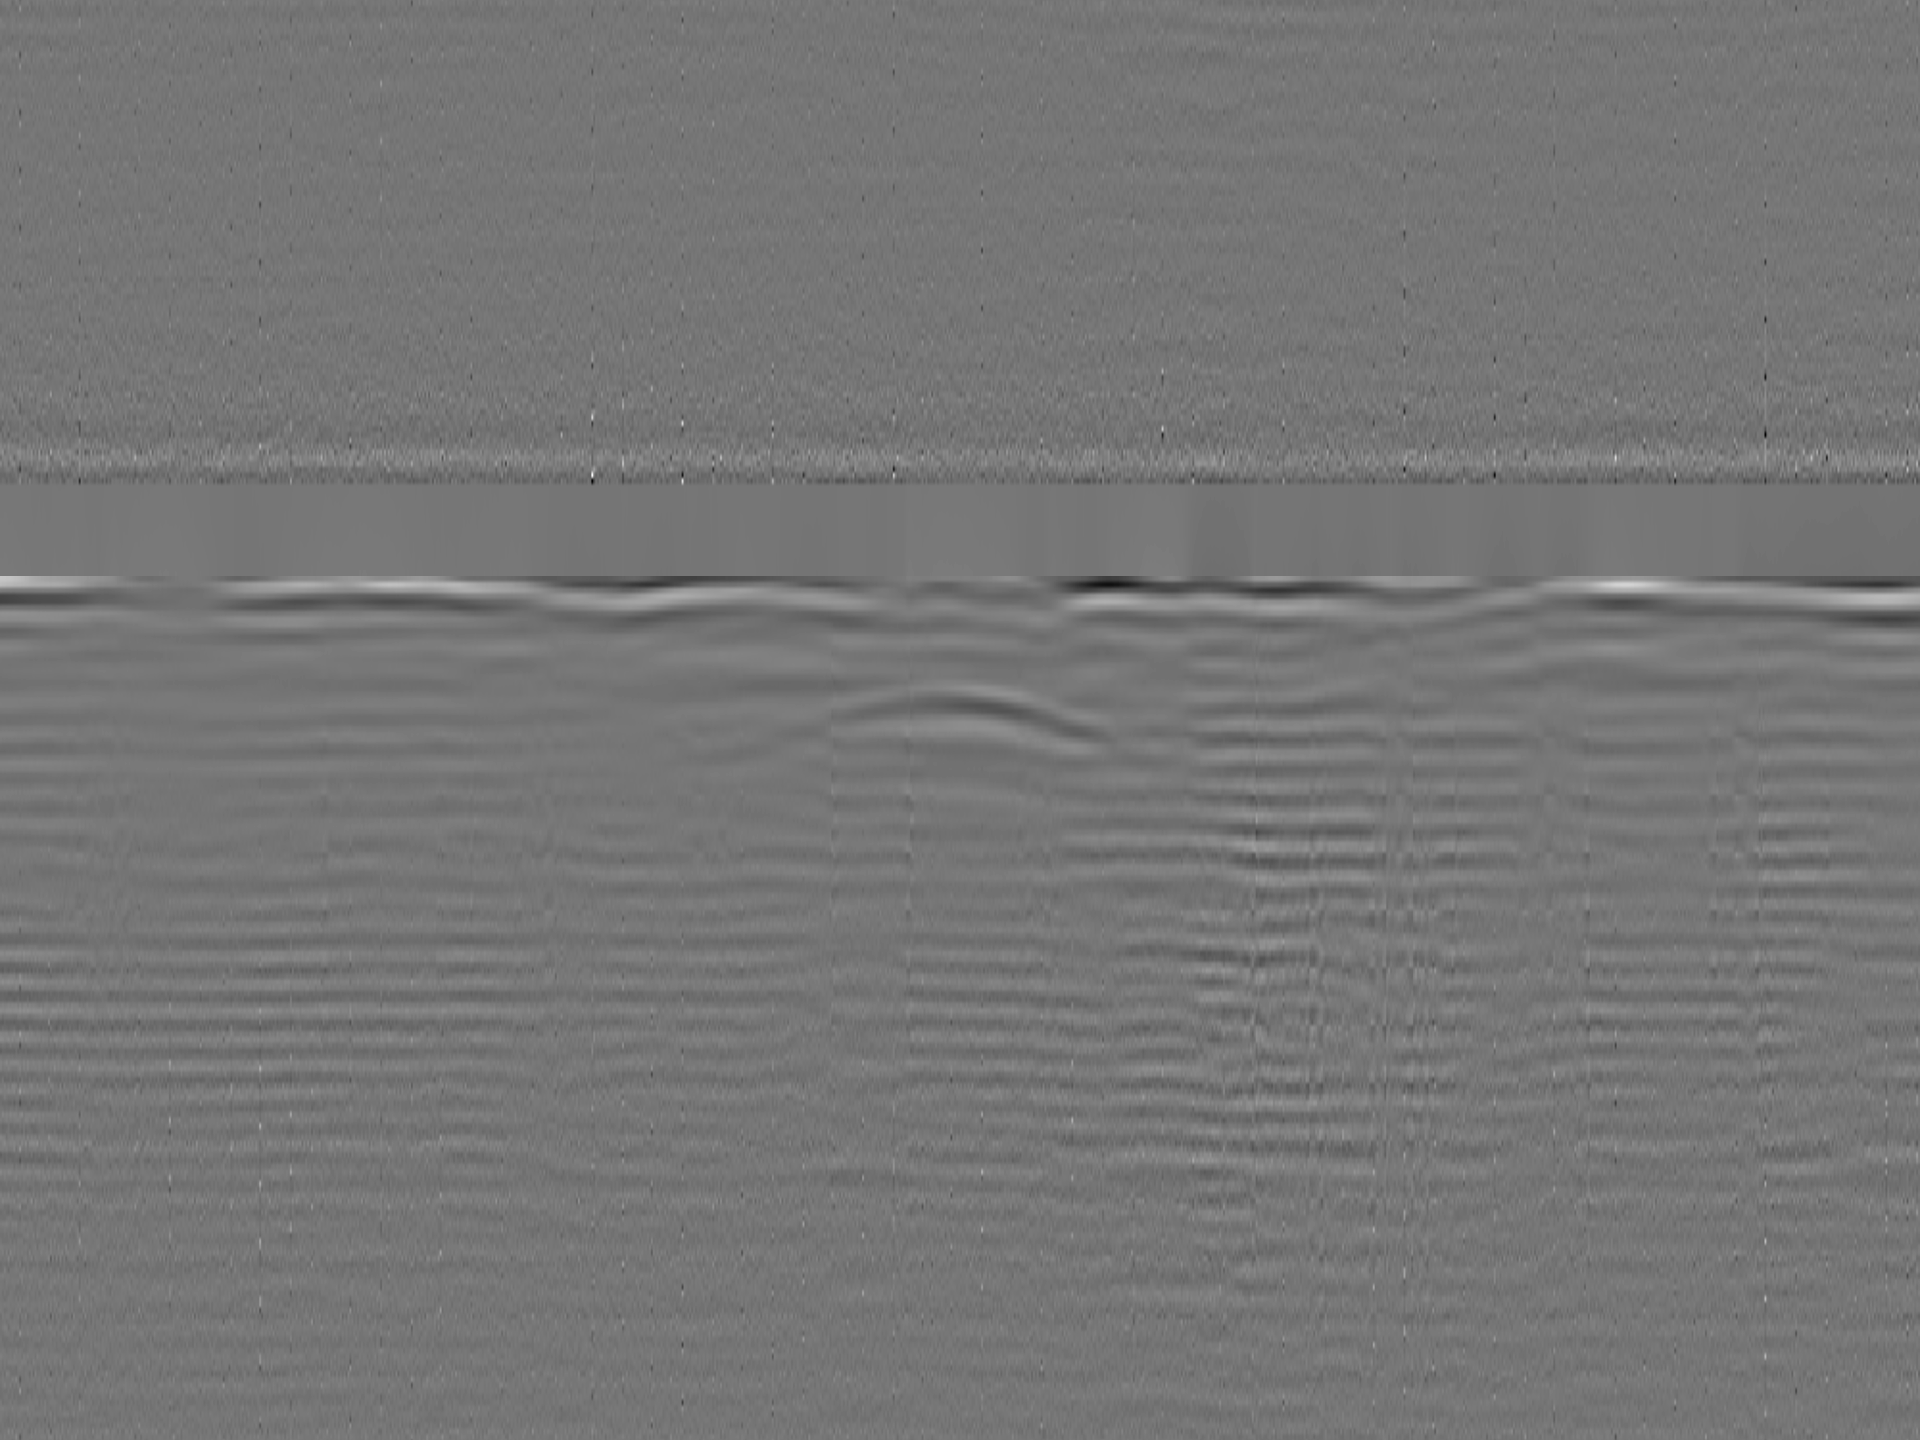Tunnel: (709, 682, 1126, 768)
